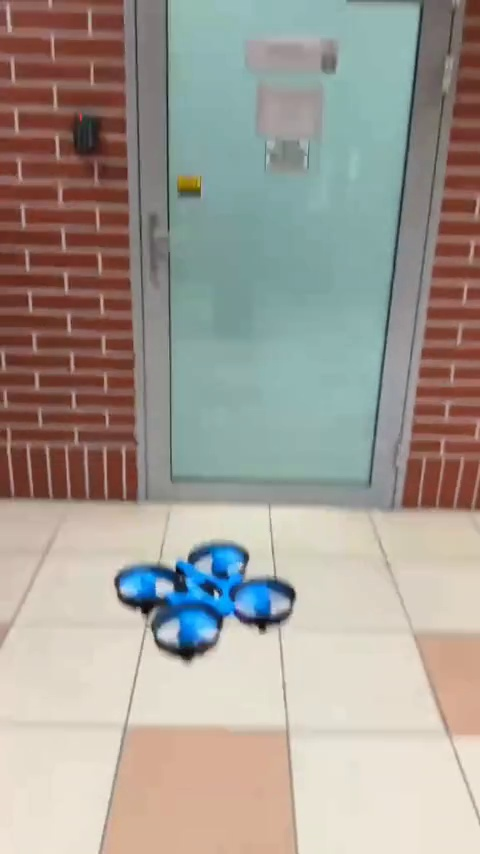drone: (116, 539, 291, 653)
